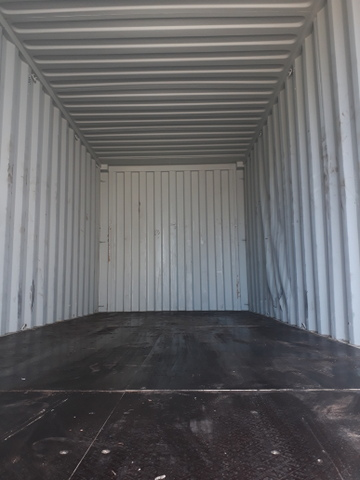moderate: (251, 192, 313, 312)
